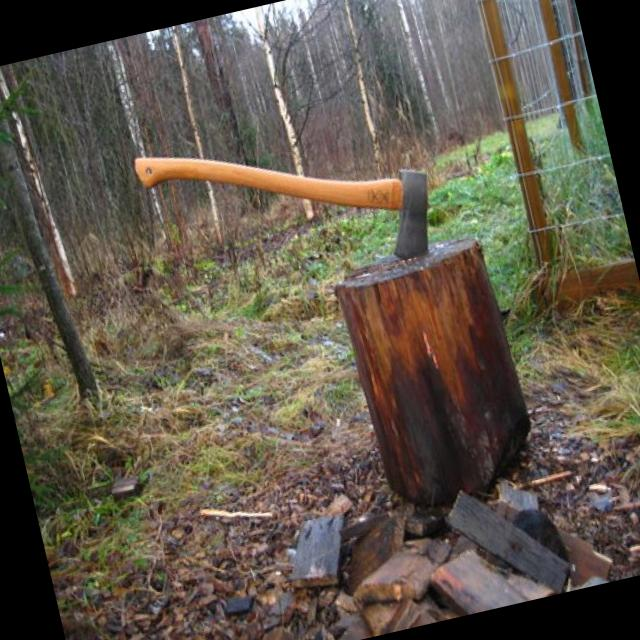Axe: (134, 156, 428, 260)
